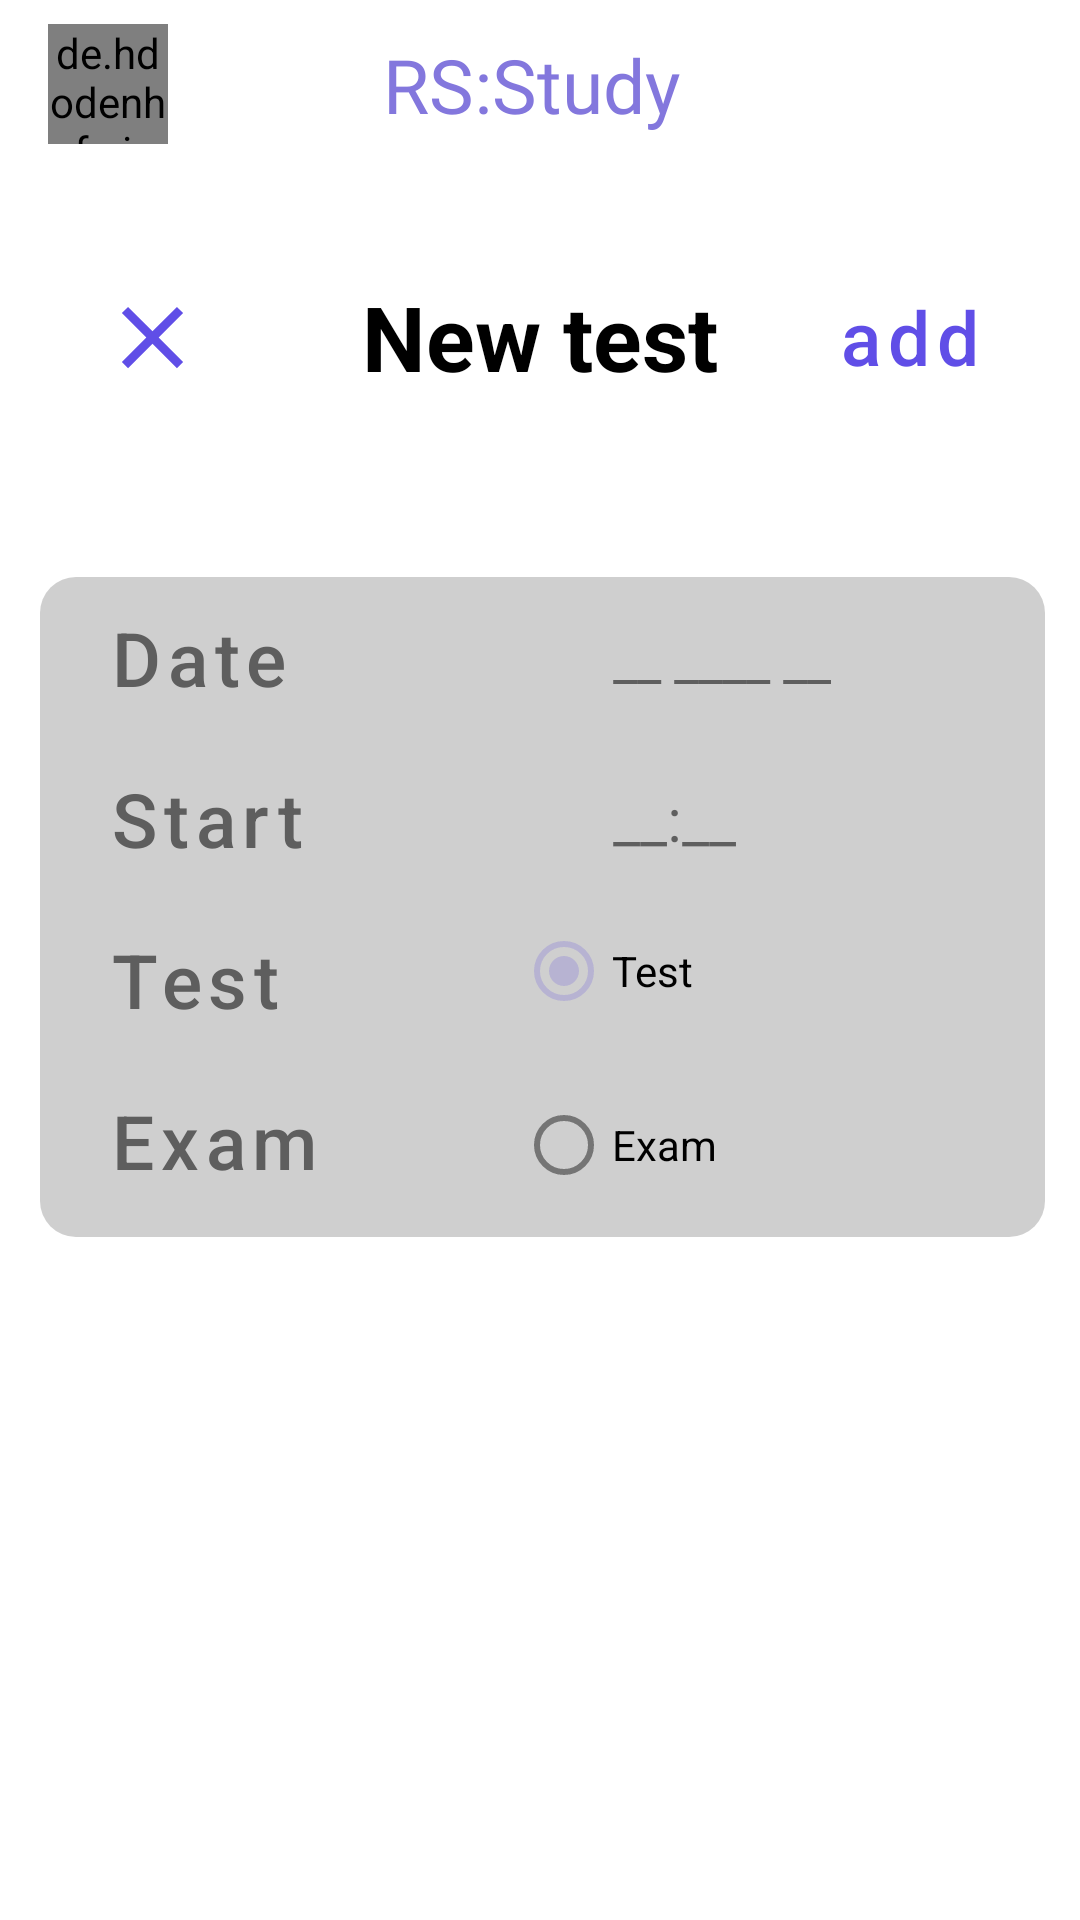

Where icons sit on this 1080x1920 app screen, as (x1, y1, x2, y2):
close lesson: (122, 307, 183, 368)
